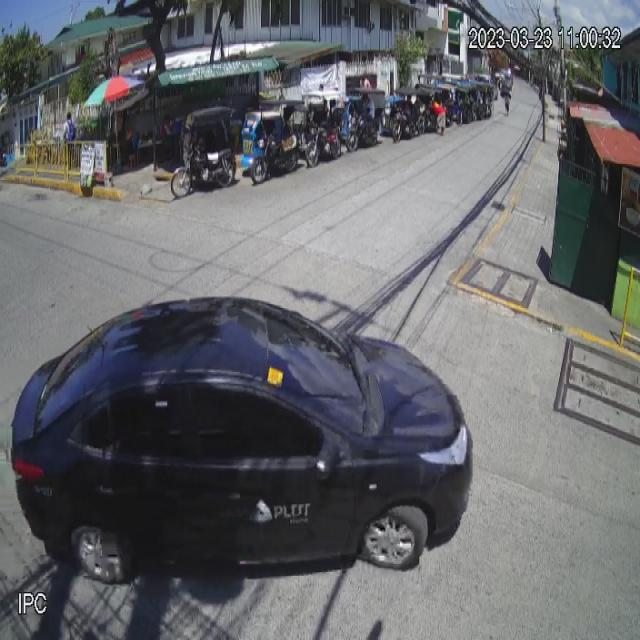Car: (10, 292, 474, 586)
